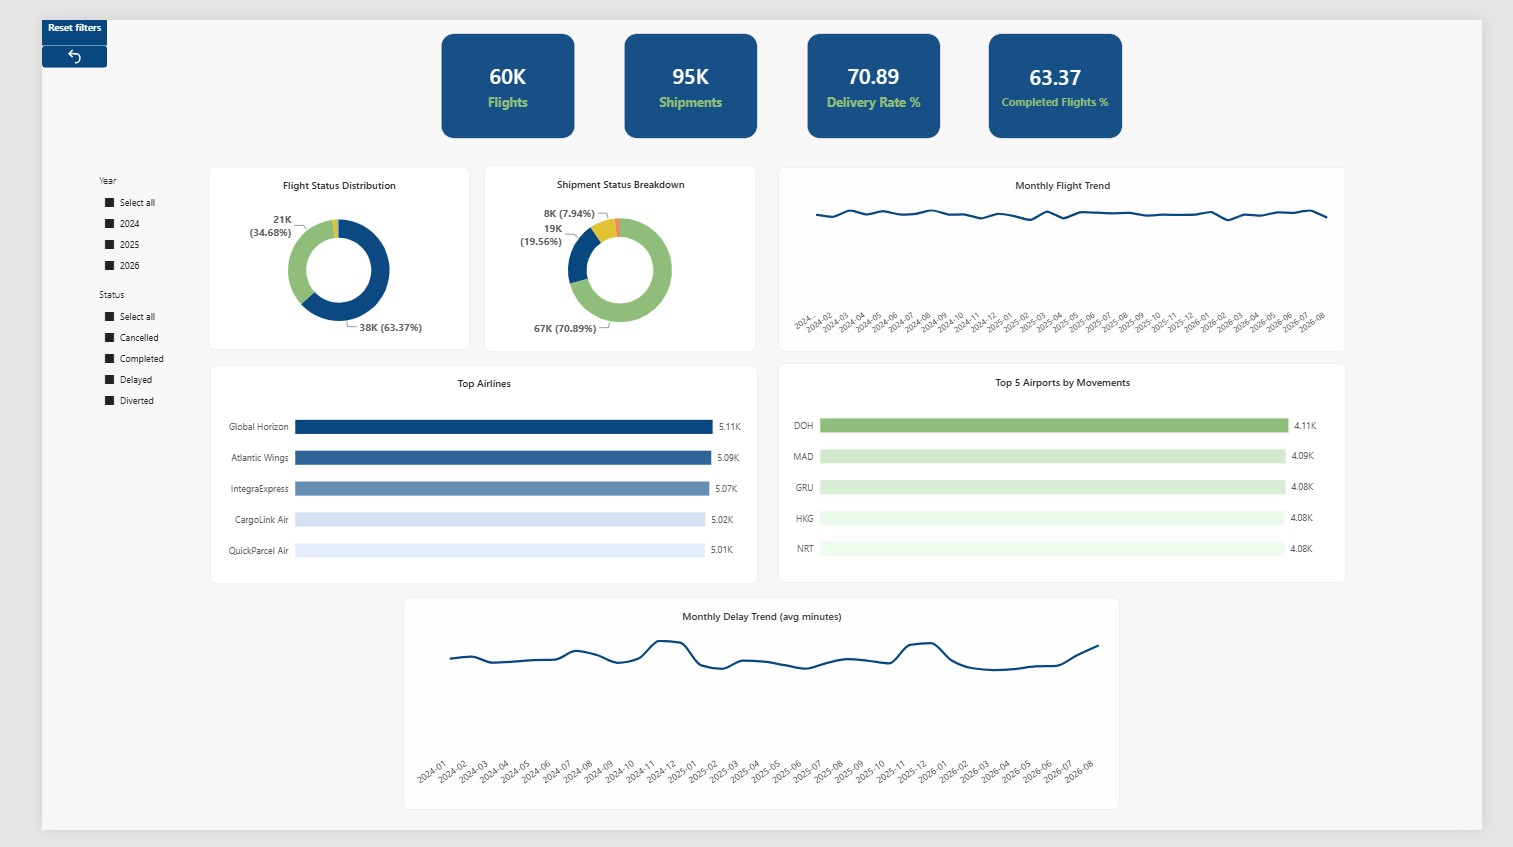

The dashboard page shown, as its layout file describes it:
{"tool":"powerbi","page":{"name":"Executive Overview","canvas":[1920,1080],"ordinal":1},"visuals":[{"type":"shape","box":[0,0,178.6,1080],"z":0},{"type":"card","fields":{"Values":["Measure Table.Total Flights"]},"box":[530.5,18.1,178.6,115.7],"z":1000},{"type":"card","fields":{"Values":["Measure Table.Total Shipments"]},"box":[774.8,18.1,177.1,115.7],"z":2000},{"type":"card","fields":{"Values":["Measure Table.Delivery_Rate_Pct"]},"box":[1017.7,18.1,177.1,115.7],"z":3000},{"type":"card","fields":{"Values":["Measure Table.On_Time_Pct"]},"box":[1260.5,18.1,178.6,115.7],"z":4000},{"type":"lineChart","title":"Monthly Flight Trend","fields":{"Category":["flights.Year","flights.Month Short"],"Y":["Measure Table.Total Flights"]},"box":[982.5,210,840,245],"z":5000},{"type":"donutChart","title":"Flight Status Distribution","fields":{"Category":["flights.status"],"Y":["Measure Table.Total Flights"]},"box":[222.2,210.3,348,244],"z":6000},{"type":"donutChart","title":"Shipment Status Breakdown","fields":{"Category":["shipments.status"],"Y":["Measure Table.Total Shipments"]},"box":[590.9,208.3,362,248],"z":7000},{"type":"barChart","title":"Top Airlines","fields":{"Category":["airlines.name"],"Y":["Measure Table.Total Flights"]},"box":[223.2,474.1,730,292],"z":8000},{"type":"barChart","title":"Top 5 Airports by Movements","fields":{"Category":["airports.iata_code"],"Y":["Measure Table.Total Movements"]},"box":[982.5,472.5,840,295],"z":9000},{"type":"lineChart","title":"Monthly Delay Trend (avg minutes)","fields":{"Category":["flights.Year","flights.Month Short"],"Y":["Measure Table.AVG Delay"]},"box":[222.5,782.5,1600,277.5],"z":10000},{"type":"actionButton","title":"Reset filters","box":[2,0,175,65],"z":11000},{"type":"slicer","title":"Status","fields":{"Values":["flights.status"]},"box":[32.9,360,115.6,202.2],"z":12000},{"type":"slicer","title":"Year","fields":{"Values":["flights.Year"]},"box":[32.9,115.7,115.6,160],"z":13000},{"type":"advancedSlicerVisual","title":"Region","fields":{"Values":["airports.region"]},"box":[346.5,160.8,1274.1,42.6],"z":14000},{"type":"pageNavigator","box":[10,860,158,200],"z":15000}]}

Visuals, with their boxes in screenshot pixels (x1, y1, x2, y2), scaled from the page's 1920x1080 canvas onto the 1513x847 screenshot:
shape: x1=0 y1=0 x2=141 y2=846
card - Measure Table.Total Flights: x1=418 y1=14 x2=559 y2=105
card - Measure Table.Total Shipments: x1=611 y1=14 x2=750 y2=105
card - Measure Table.Delivery_Rate_Pct: x1=802 y1=14 x2=942 y2=105
card - Measure Table.On_Time_Pct: x1=993 y1=14 x2=1134 y2=105
"Monthly Flight Trend" lineChart: x1=774 y1=165 x2=1436 y2=357
"Flight Status Distribution" donutChart: x1=175 y1=165 x2=449 y2=356
"Shipment Status Breakdown" donutChart: x1=466 y1=163 x2=751 y2=358
"Top Airlines" barChart: x1=176 y1=372 x2=751 y2=601
"Top 5 Airports by Movements" barChart: x1=774 y1=371 x2=1436 y2=602
"Monthly Delay Trend (avg minutes)" lineChart: x1=175 y1=614 x2=1436 y2=831
"Reset filters" actionButton: x1=2 y1=0 x2=139 y2=51
"Status" slicer: x1=26 y1=282 x2=117 y2=441
"Year" slicer: x1=26 y1=91 x2=117 y2=216
"Region" advancedSlicerVisual: x1=273 y1=126 x2=1277 y2=160
pageNavigator: x1=8 y1=674 x2=132 y2=831
